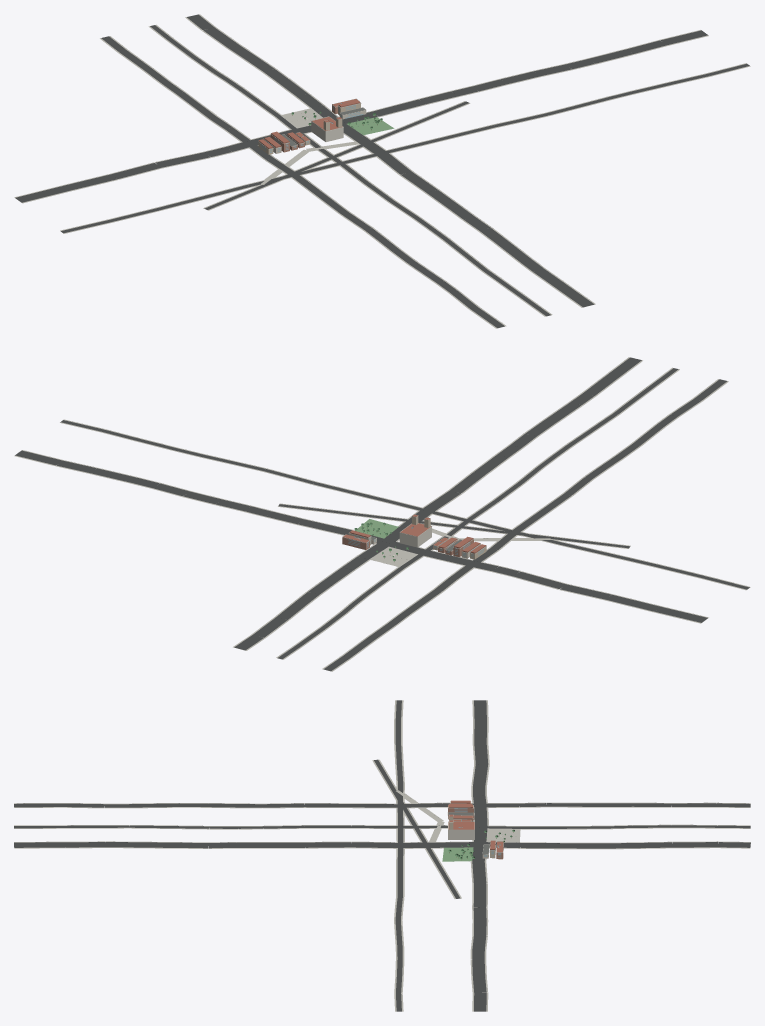
The model's file is tile-m001-p000.glb.
3 views of the same model, one above another, from view 1: azimuth 30°, elevation 25°; view 2: azimuth 150°, elevation 25°; view 3: azimuth 270°, elevation 25° (orthographic). The views are drawn at different scales.
Visible parts, largest first — view 1: road-v-8-mesh-5, road-h-12-mesh-9, road-v-6-mesh-1, road-h-10-mesh-7, road-v-7-mesh-3, road-h-10-mesh-6, road-h-12-mesh-8, road-v-6-mesh-0, road-v-7-mesh-2, road-v-8-mesh-4, road-radial-1-2-mesh-11, road-radial-1-2-mesh-10; view 2: road-h-12-mesh-9, road-v-8-mesh-5, road-v-6-mesh-1, road-h-10-mesh-7, road-v-7-mesh-3, road-h-10-mesh-6, road-h-12-mesh-8, road-v-6-mesh-0, road-v-7-mesh-2, road-v-8-mesh-4, road-radial-1-2-mesh-11, road-radial-1-2-mesh-10 (+1 smaller); view 3: road-v-8-mesh-5, road-h-12-mesh-9, road-v-6-mesh-1, road-v-7-mesh-3, road-v-8-mesh-4, road-v-6-mesh-0, road-h-10-mesh-7, road-v-7-mesh-2, road-h-10-mesh-6, road-h-12-mesh-8, road-radial-1-2-mesh-11, road-radial-1-2-mesh-10.
Boxes of the visible parts, <box> form: road-v-8-mesh-5: <box>187,14,594,307</box>; road-h-12-mesh-9: <box>15,30,707,202</box>; road-v-6-mesh-1: <box>101,36,504,328</box>; road-h-10-mesh-7: <box>61,64,749,233</box>; road-v-7-mesh-3: <box>150,25,550,316</box>; road-h-10-mesh-6: <box>60,63,750,233</box>; road-h-12-mesh-8: <box>14,30,708,203</box>; road-v-6-mesh-0: <box>100,36,506,328</box>; road-v-7-mesh-2: <box>148,24,552,316</box>; road-v-8-mesh-4: <box>185,14,595,307</box>; road-radial-1-2-mesh-11: <box>204,101,468,209</box>; road-radial-1-2-mesh-10: <box>203,101,470,210</box>; road-h-12-mesh-9: <box>15,450,707,622</box>; road-v-8-mesh-5: <box>234,357,641,650</box>; road-v-6-mesh-1: <box>323,379,727,671</box>; road-h-10-mesh-7: <box>60,420,749,589</box>; road-v-7-mesh-3: <box>277,368,678,659</box>; road-h-10-mesh-6: <box>60,419,750,590</box>; road-h-12-mesh-8: <box>14,450,708,623</box>; road-v-6-mesh-0: <box>322,379,728,671</box>; road-v-7-mesh-2: <box>276,367,679,659</box>; road-v-8-mesh-4: <box>233,357,642,650</box>; road-radial-1-2-mesh-11: <box>278,504,630,548</box>; road-radial-1-2-mesh-10: <box>278,503,630,548</box>; road-v-8-mesh-5: <box>14,842,750,848</box>; road-h-12-mesh-9: <box>472,700,488,1011</box>; road-v-6-mesh-1: <box>14,803,750,807</box>; road-v-7-mesh-3: <box>14,825,750,828</box>; road-v-8-mesh-4: <box>14,841,750,849</box>; road-v-6-mesh-0: <box>14,802,750,808</box>; road-h-10-mesh-7: <box>395,700,403,1011</box>; road-v-7-mesh-2: <box>14,824,750,829</box>; road-h-10-mesh-6: <box>394,700,404,1011</box>; road-h-12-mesh-8: <box>470,700,489,1011</box>; road-radial-1-2-mesh-11: <box>374,759,460,898</box>; road-radial-1-2-mesh-10: <box>372,759,461,898</box>.
Size of the model in its own units: 1600 by 42.58 by 1601.
